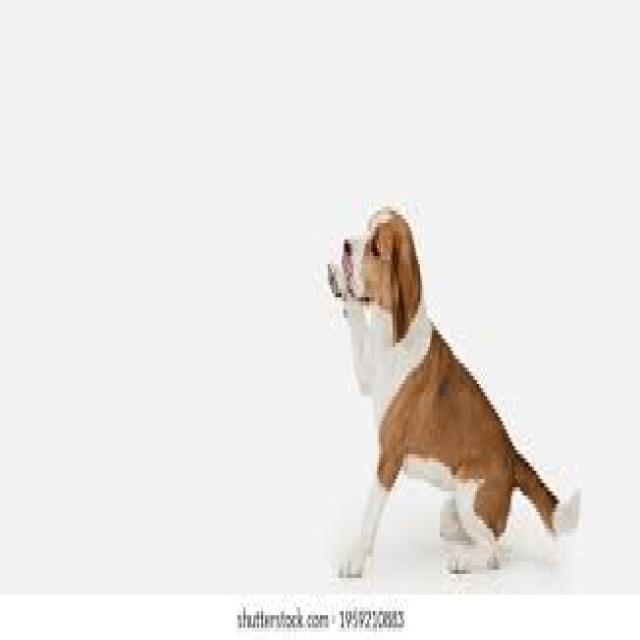Dog: (320, 194, 585, 584)
